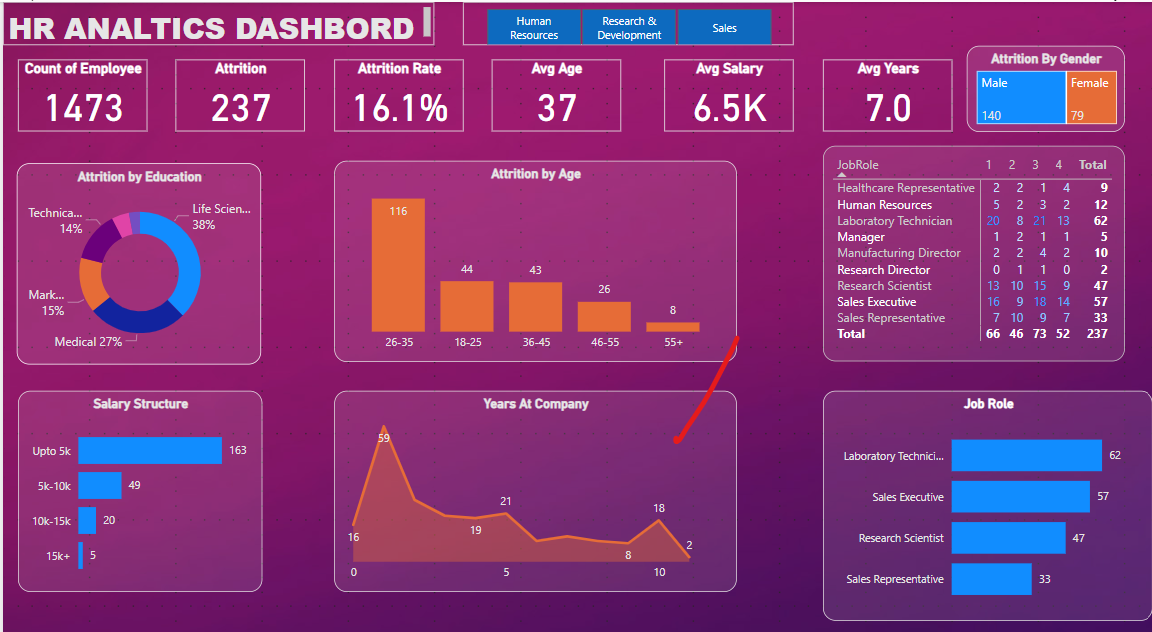

The page's visual inventory and layout, read from the dashboard file:
{"tool":"powerbi","page":{"name":"Page 1","canvas":[1280,720],"ordinal":0},"visuals":[{"type":"card","title":"Count of Employee","fields":{"Values":["CountNonNull(HR_Analytics.EmpID)"]},"box":[16,64,144,80],"z":0},{"type":"card","title":"Attrition Rate","fields":{"Values":["HR_Analytics.AttritionRate"]},"box":[368,64,144,80],"z":1000},{"type":"card","title":"Attrition","fields":{"Values":["Sum(HR_Analytics.AttritionCount)"]},"box":[192,64,144,80],"z":2000},{"type":"card","title":"Avg Age","fields":{"Values":["Avg(HR_Analytics.Age)"]},"box":[544,64,144,80],"z":3000},{"type":"card","title":"Avg Salary","fields":{"Values":["Avg(HR_Analytics.MonthlyIncome)"]},"box":[736,64,144,80],"z":4000},{"type":"card","title":"Avg Years","fields":{"Values":["Avg(HR_Analytics.YearsAtCompany)"]},"box":[912,64,144,80],"z":5000},{"type":"donutChart","title":" Attrition by Education","fields":{"Category":["HR_Analytics.EducationField"],"Y":["Sum(HR_Analytics.AttritionCount)"]},"box":[15.6,179.8,272,224],"z":6000},{"type":"columnChart","title":" Attrition by Age","fields":{"Category":["HR_Analytics.AgeGroup"],"Y":["Sum(HR_Analytics.AttritionCount)"]},"box":[368,176,448,224],"z":7000},{"type":"pivotTable","fields":{"Rows":["HR_Analytics.JobRole"],"Columns":["HR_Analytics.JobSatisfaction"],"Values":["Sum(HR_Analytics.AttritionCount)"]},"box":[912,160,336,240],"z":8000},{"type":"barChart","title":" Salary Structure","fields":{"Category":["HR_Analytics.SalarySlab"],"Y":["Sum(HR_Analytics.AttritionCount)"]},"box":[16,432,272,224],"z":9000},{"type":"barChart","title":"Job Role","fields":{"Category":["HR_Analytics.JobRole"],"Y":["Sum(HR_Analytics.AttritionCount)"]},"box":[912,432,368,256],"z":10000},{"type":"areaChart","title":" Years At Company","fields":{"Category":["HR_Analytics.YearsAtCompany"],"Y":["Sum(HR_Analytics.AttritionCount)"]},"box":[368,432,448,224],"z":11000},{"type":"treemap","title":" Attrition By Gender","fields":{"Group":["HR_Analytics.Gender"],"Values":["Sum(HR_Analytics.AttritionCount)"]},"box":[1072,48,176,96],"z":12000},{"type":"textbox","box":[0,0,480,48],"z":13000},{"type":"slicer","fields":{"Values":["HR_Analytics.Department"]},"box":[512,0,368,48],"z":14000}]}

Visuals, with their boxes in screenshot pixels (x1, y1, x2, y2), scaled from the page's 1280x720 canvas onto the 1152x632 screenshot:
"Count of Employee" card: {"left": 14, "top": 56, "right": 144, "bottom": 126}
"Attrition Rate" card: {"left": 331, "top": 56, "right": 461, "bottom": 126}
"Attrition" card: {"left": 173, "top": 56, "right": 302, "bottom": 126}
"Avg Age" card: {"left": 490, "top": 56, "right": 619, "bottom": 126}
"Avg Salary" card: {"left": 662, "top": 56, "right": 792, "bottom": 126}
"Avg Years" card: {"left": 821, "top": 56, "right": 950, "bottom": 126}
" Attrition by Education" donutChart: {"left": 14, "top": 158, "right": 259, "bottom": 354}
" Attrition by Age" columnChart: {"left": 331, "top": 154, "right": 734, "bottom": 351}
pivotTable - HR_Analytics.JobRole x HR_Analytics.JobSatisfaction: {"left": 821, "top": 140, "right": 1123, "bottom": 351}
" Salary Structure" barChart: {"left": 14, "top": 379, "right": 259, "bottom": 576}
"Job Role" barChart: {"left": 821, "top": 379, "right": 1151, "bottom": 604}
" Years At Company" areaChart: {"left": 331, "top": 379, "right": 734, "bottom": 576}
" Attrition By Gender" treemap: {"left": 965, "top": 42, "right": 1123, "bottom": 126}
textbox: {"left": 0, "top": 0, "right": 432, "bottom": 42}
slicer - HR_Analytics.Department: {"left": 461, "top": 0, "right": 792, "bottom": 42}
